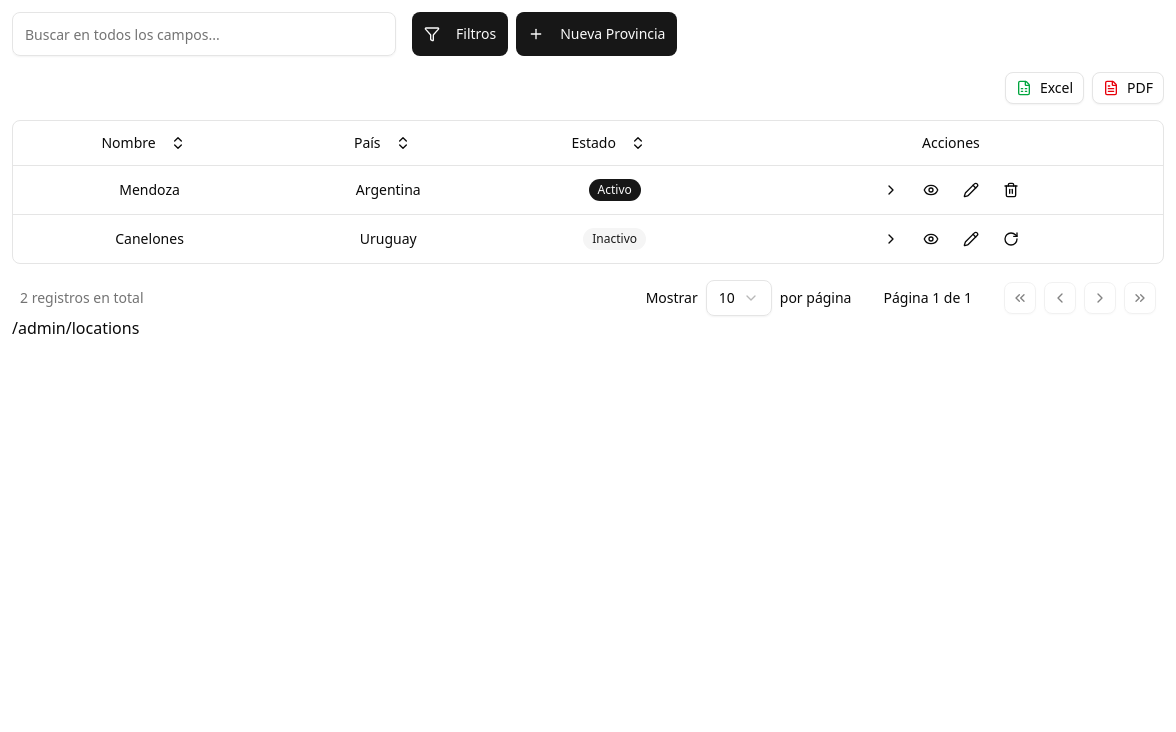
Test case: location table toolbars › preserves the state country filter
Click the button "Filtros".
click(460, 34)  # box [412, 12, 508, 56]
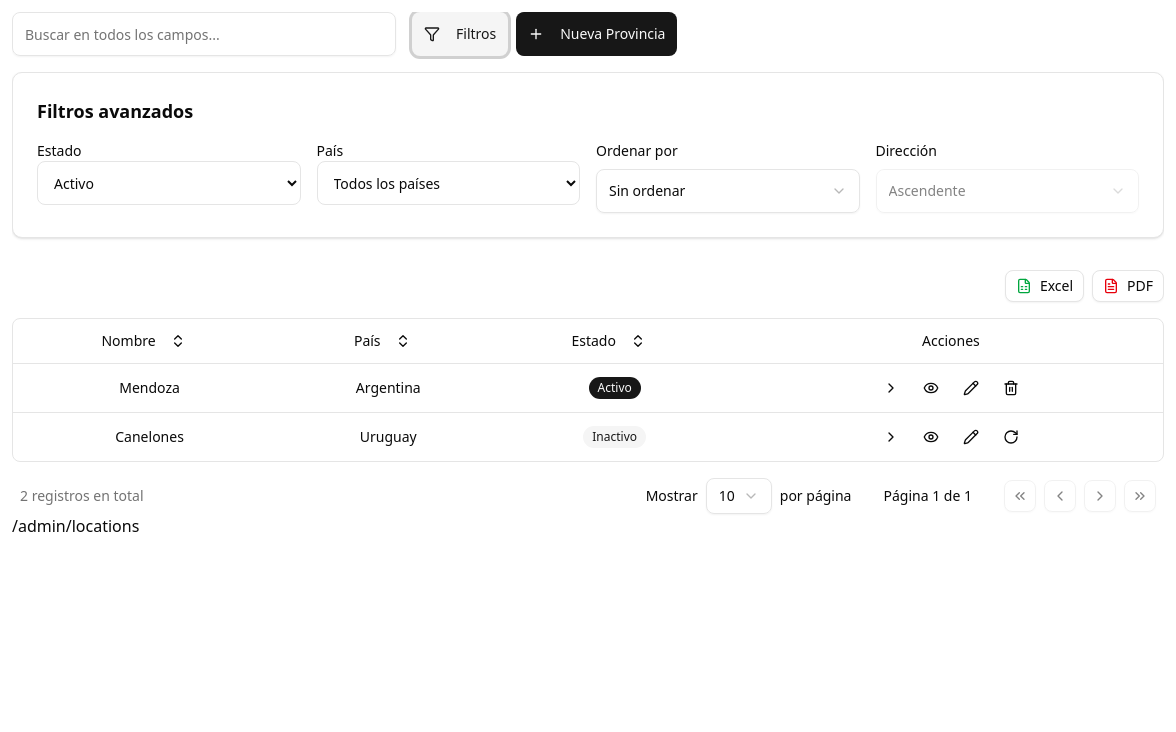
Select "Argentina" in the 2nd dropdown at (448, 183), box [316, 161, 580, 205]
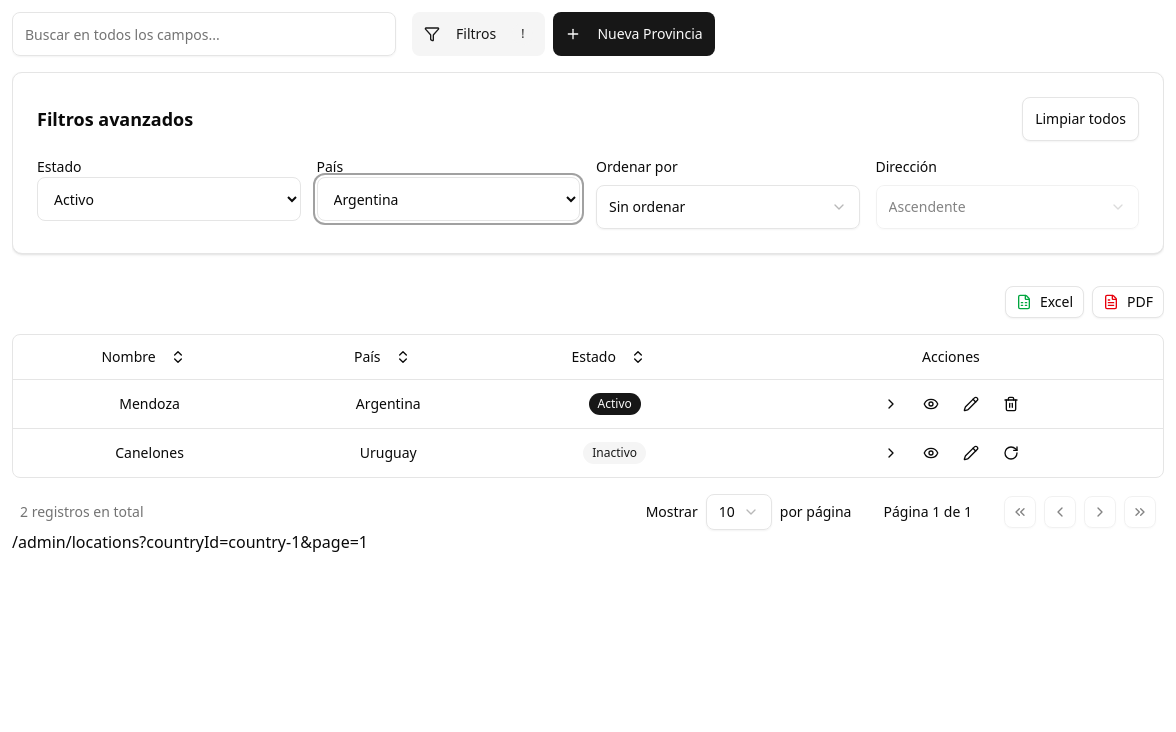
Now the text with test id "location-search" shows "countryId=country-1", box [139, 531, 368, 553]
